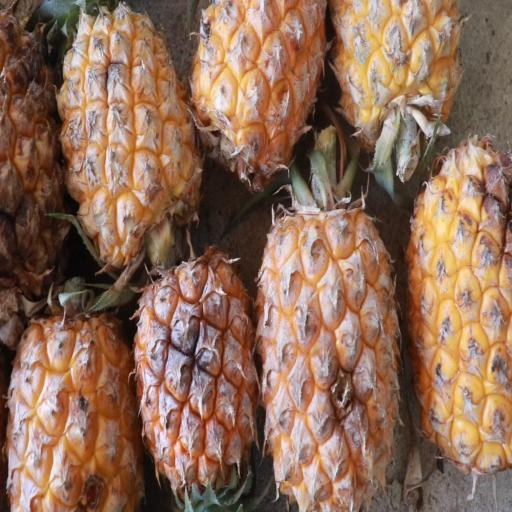Pineapple - v8 v1: (256, 159, 404, 512), (402, 138, 512, 486), (58, 6, 205, 266), (132, 238, 258, 509), (4, 294, 147, 510), (190, 0, 332, 183), (0, 0, 65, 312), (329, 3, 459, 158), (330, 0, 360, 161)
